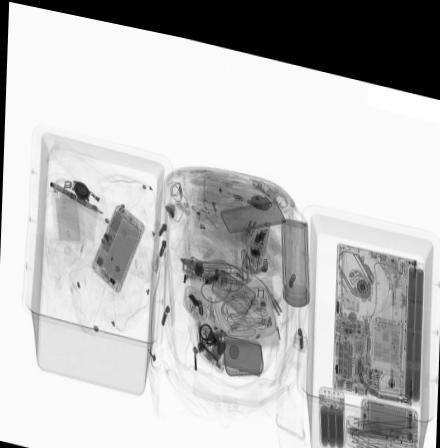Powerbank: (316, 368, 345, 437)
